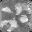people: (8, 18, 19, 28), (15, 3, 22, 15), (1, 7, 13, 13), (19, 15, 28, 23), (0, 19, 8, 27)
